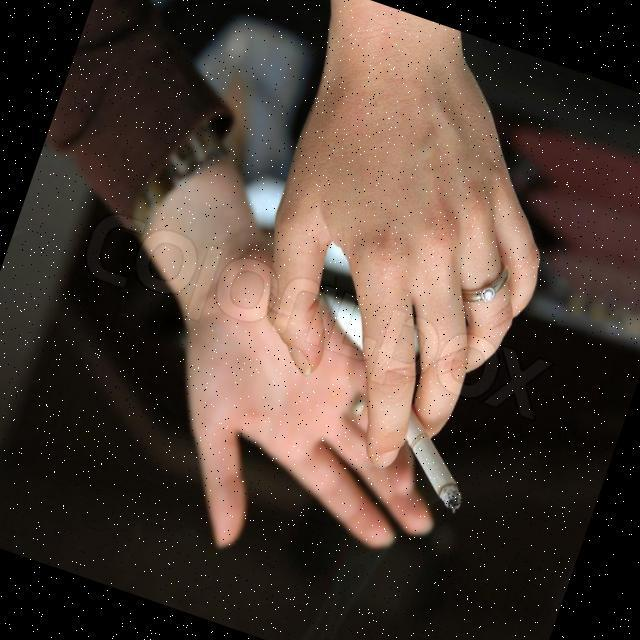cigarette: (387, 420, 488, 524)
